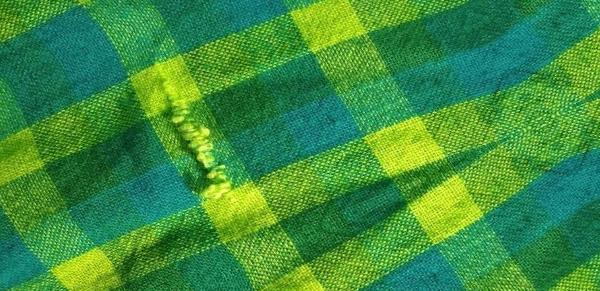knot: (158, 67, 231, 208)
